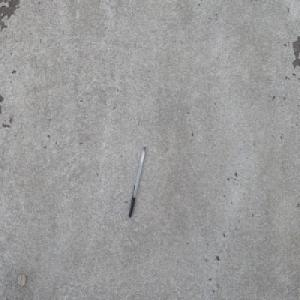Pen: (128, 146, 146, 218)
